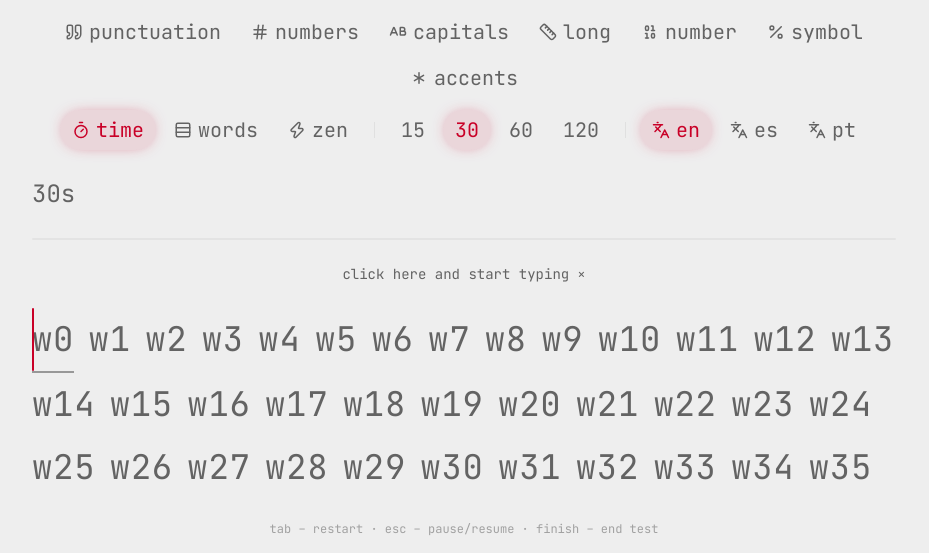
TypingTest › completes a word with space and advances to the next one
This screenshot has width=929, height=553.
Click the button "words" at x=216, y=130, box [162, 110, 270, 150]
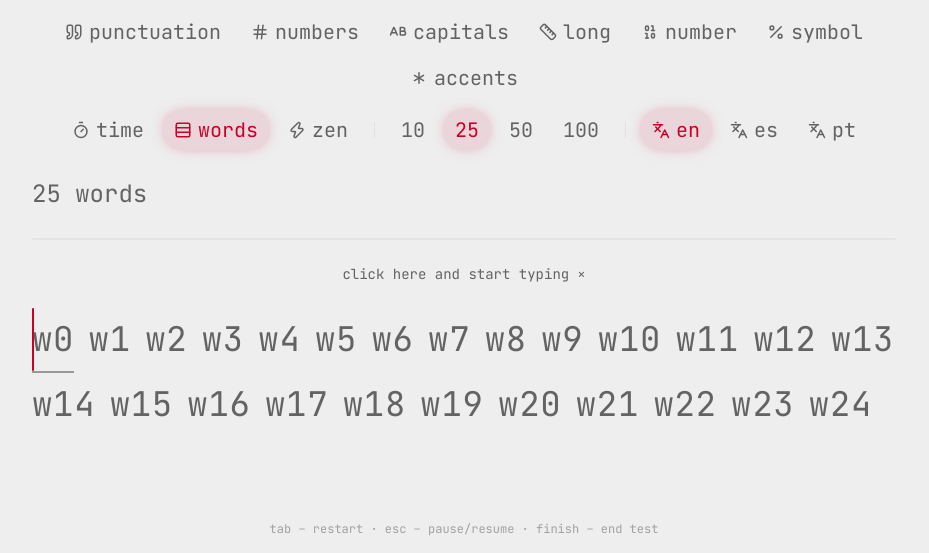
Click the button "10" at x=413, y=130, box [389, 110, 437, 150]
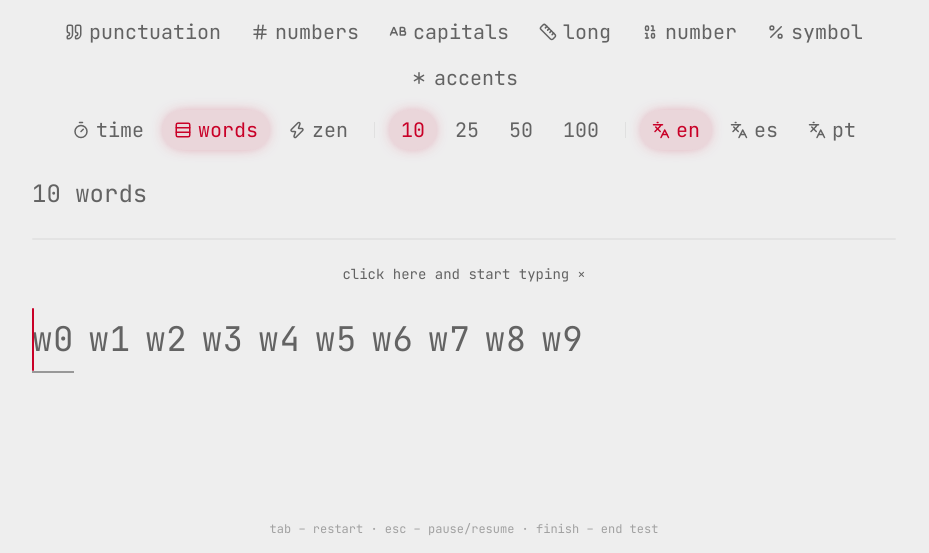
Type keys "w0 "
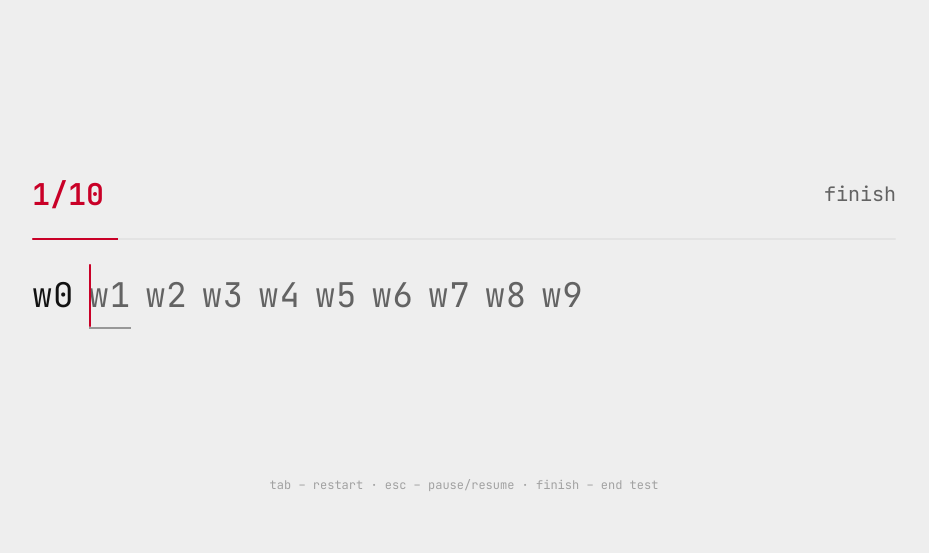
Expected: the text "1/10" is shown, [32, 179, 104, 209]
